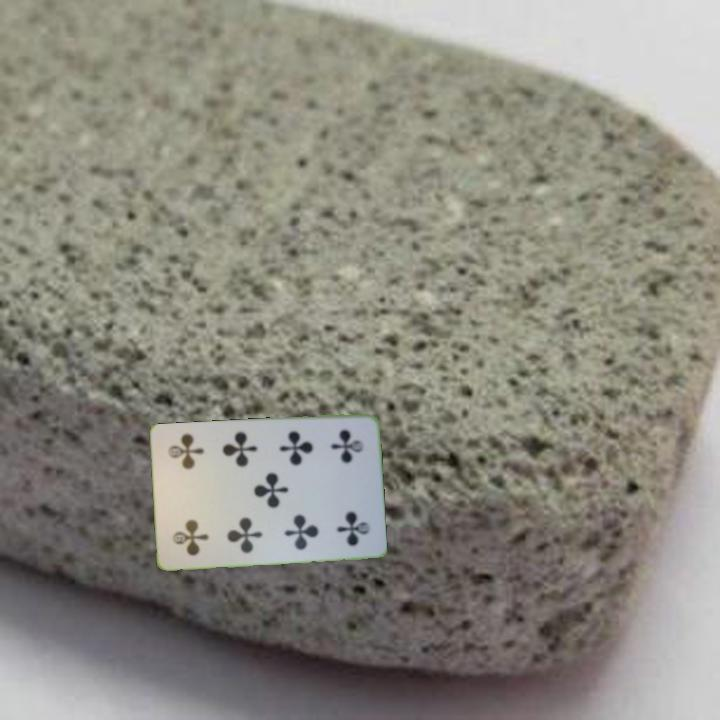c_9.png: (162, 491, 224, 561), (312, 422, 373, 492)
